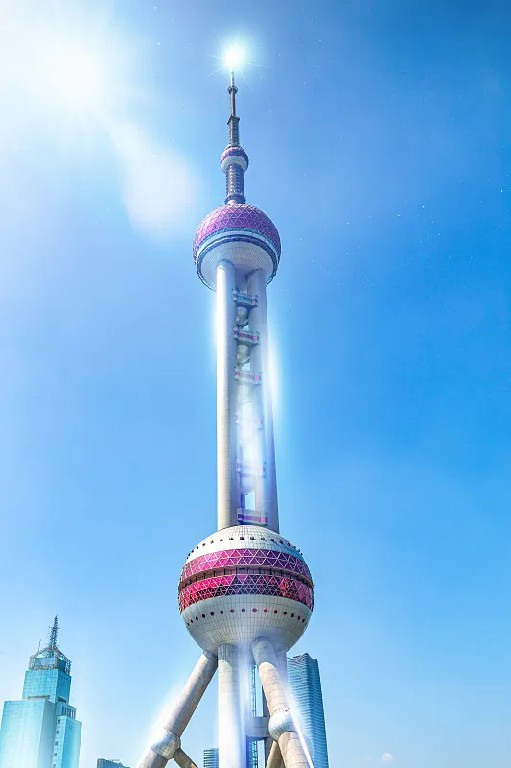Oriental: (135, 69, 313, 768)
